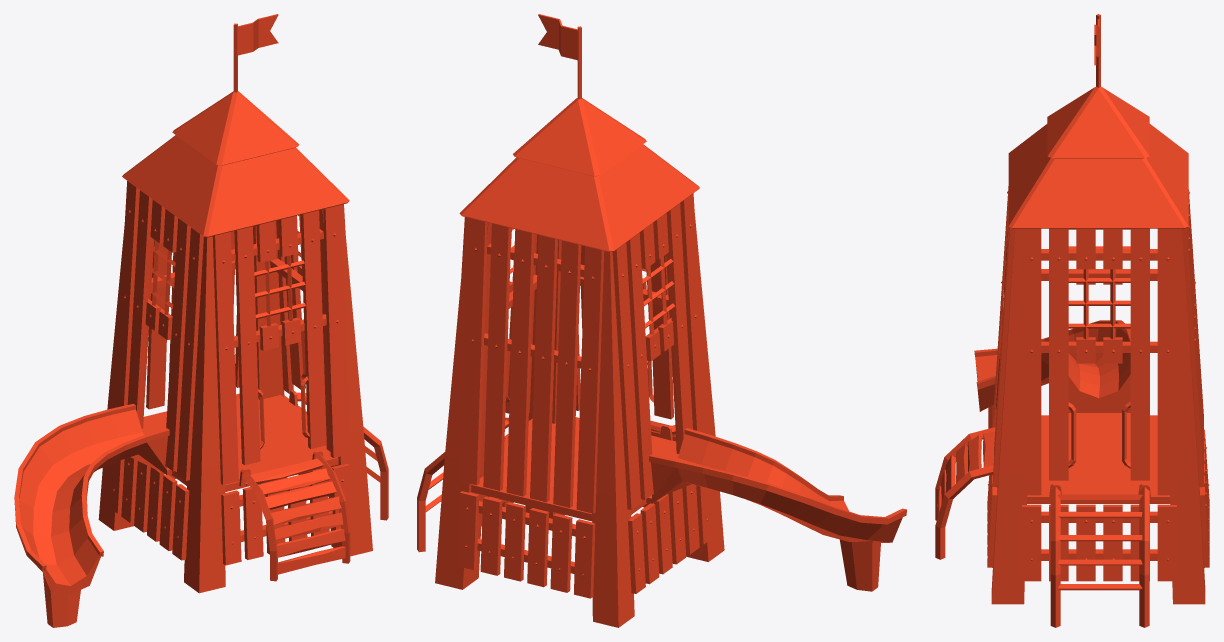
Rendered from SM_Slide_Wood_City.fbx.
3 views of the same model, side by side, from view 1: azimuth 30°, elevation 25°; view 2: azimuth 150°, elevation 25°; view 3: azimuth 270°, elevation 25° (orthographic). The views are drawn at different scales.
Parts seen in each view (by area): view 1: SM_Slide_Wood_City; view 2: SM_Slide_Wood_City; view 3: SM_Slide_Wood_City.
Part boxes in pixels (x1=…): SM_Slide_Wood_City: x1=14, y1=14, x2=388, y2=627; SM_Slide_Wood_City: x1=417, y1=14, x2=906, y2=627; SM_Slide_Wood_City: x1=935, y1=14, x2=1209, y2=627.
Bounding box in the file's own units: 4.42 × 5.63 × 2.57.
